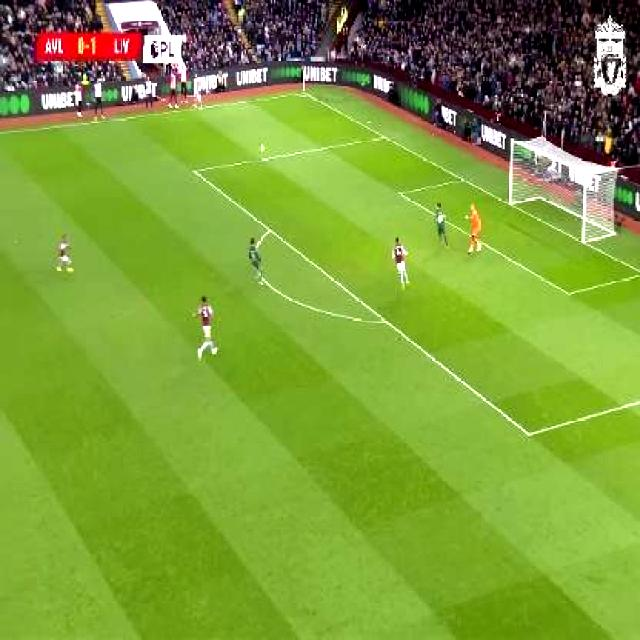bigarea_bottom_inner: (522, 423, 536, 445)
bigarea_top_inner: (189, 163, 200, 179)
bigarea_top_outter: (380, 132, 388, 142)
bottom_arc_area_intersection: (380, 312, 392, 330)
corner: (297, 89, 308, 97)
smallarea_bottom_inner: (562, 283, 576, 302)
smallarea_top_inner: (396, 186, 404, 199)
smallarea_top_outter: (458, 173, 468, 184)
top_arc_area_intersection: (264, 223, 274, 235)
